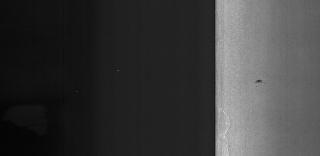inclusion: (253, 78, 267, 86)
water spot: (216, 100, 234, 156)
